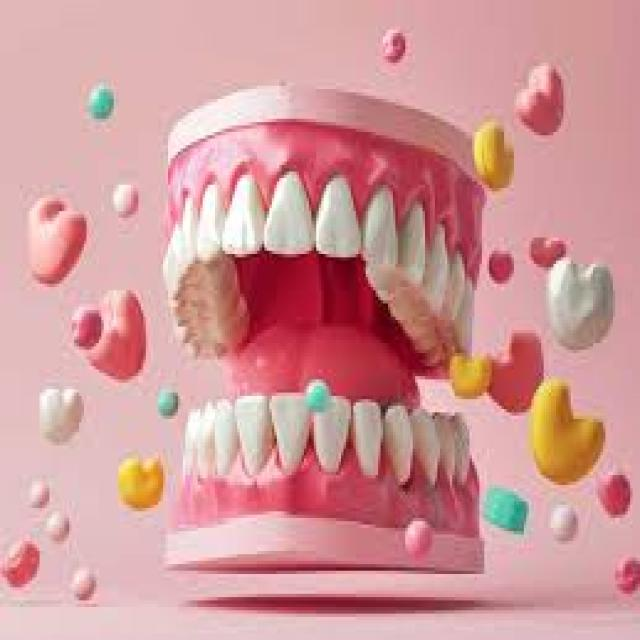tooth: (267, 158, 314, 254), (314, 162, 363, 254), (267, 389, 314, 472), (228, 155, 264, 261), (358, 184, 398, 270), (195, 165, 225, 264), (406, 406, 442, 482), (314, 389, 343, 472), (356, 399, 383, 488), (383, 402, 410, 488), (445, 406, 474, 485), (458, 247, 480, 350), (235, 392, 264, 468), (400, 208, 430, 280), (212, 406, 245, 468), (185, 409, 212, 482), (428, 228, 452, 310), (180, 194, 202, 270)
